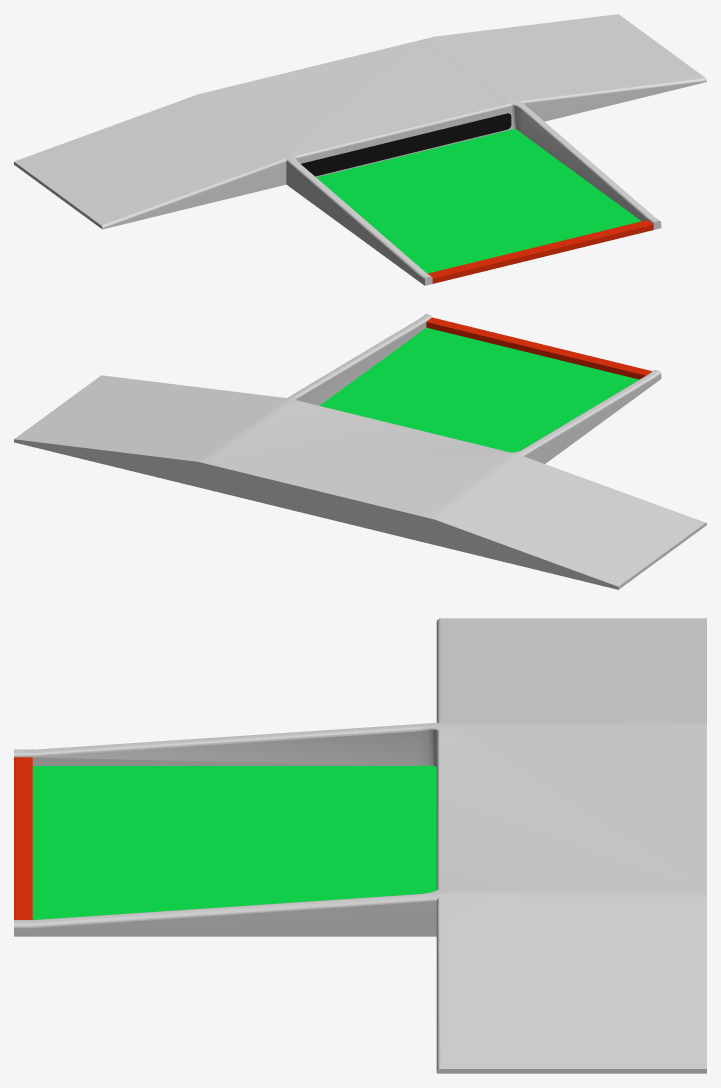
The model's file is Frame.fbx.
3 renders of one model, top to bottom at view 1: azimuth 30°, elevation 25°; view 2: azimuth 150°, elevation 25°; view 3: azimuth 270°, elevation 25°, orthographic. The views are drawn at different scales.
Parts seen in each view (by area): view 1: Frame, Frame.001; view 2: Frame, Frame.001; view 3: Frame, Frame.001.
Part boxes in pixels (x1=…): Frame: x1=14, y1=14, x2=706, y2=285; Frame.001: x1=428, y1=220, x2=653, y2=283; Frame: x1=14, y1=314, x2=706, y2=589; Frame.001: x1=426, y1=317, x2=652, y2=379; Frame: x1=14, y1=618, x2=706, y2=1073; Frame.001: x1=14, y1=757, x2=32, y2=919.
Bounding box in the file's own units: 9571 × 388 × 6220.
